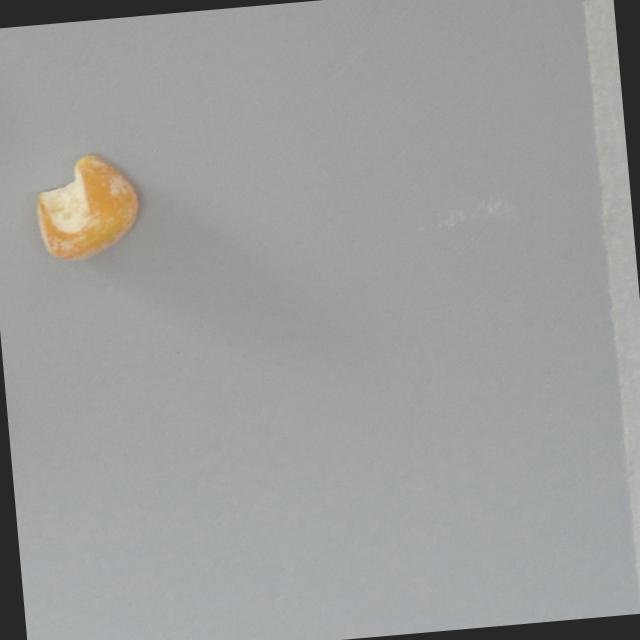dañado: (24, 145, 151, 268)
